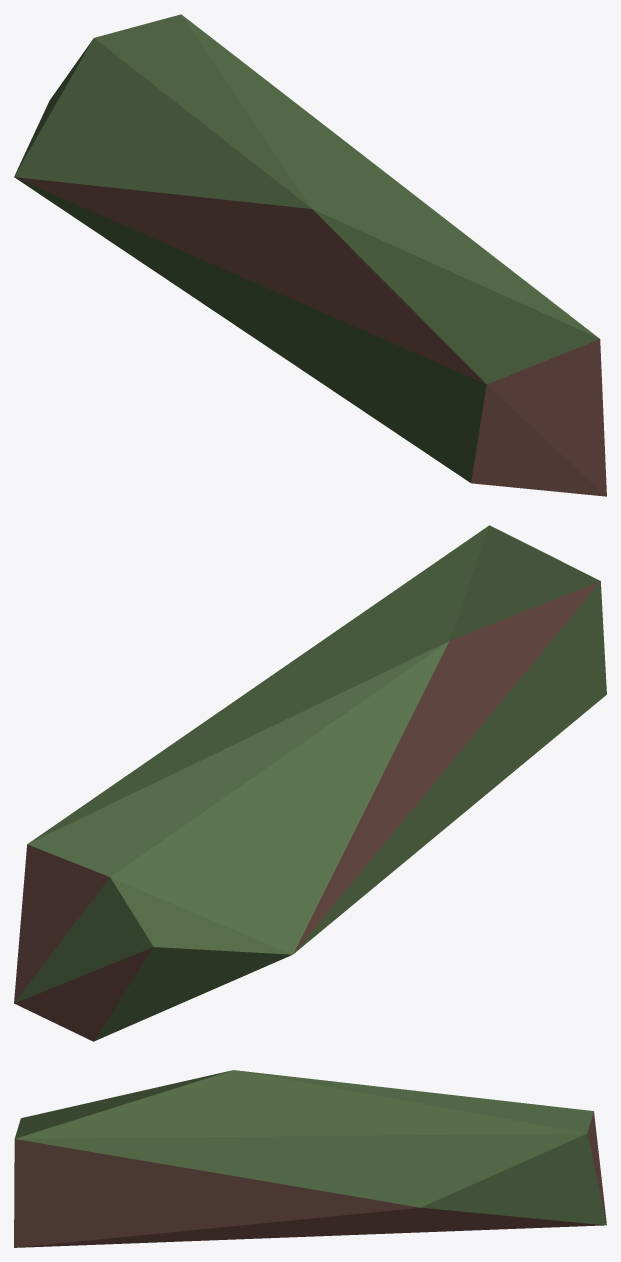
The model's file is WoodLog_Moss.lod4.glb.
3 views of the same model, one above another, from view 1: azimuth 30°, elevation 25°; view 2: azimuth 150°, elevation 25°; view 3: azimuth 270°, elevation 25° (orthographic). The views are drawn at different scales.
Parts seen in each view (by area): view 1: WoodLog_Moss; view 2: WoodLog_Moss; view 3: WoodLog_Moss.
Boxes of the visible parts, x1,y1,x2,y2 form: WoodLog_Moss: [14, 14, 606, 496]; WoodLog_Moss: [14, 525, 606, 1041]; WoodLog_Moss: [14, 1070, 606, 1247].
Size of the model in its own units: 0.8998 by 0.6732 by 2.69.
